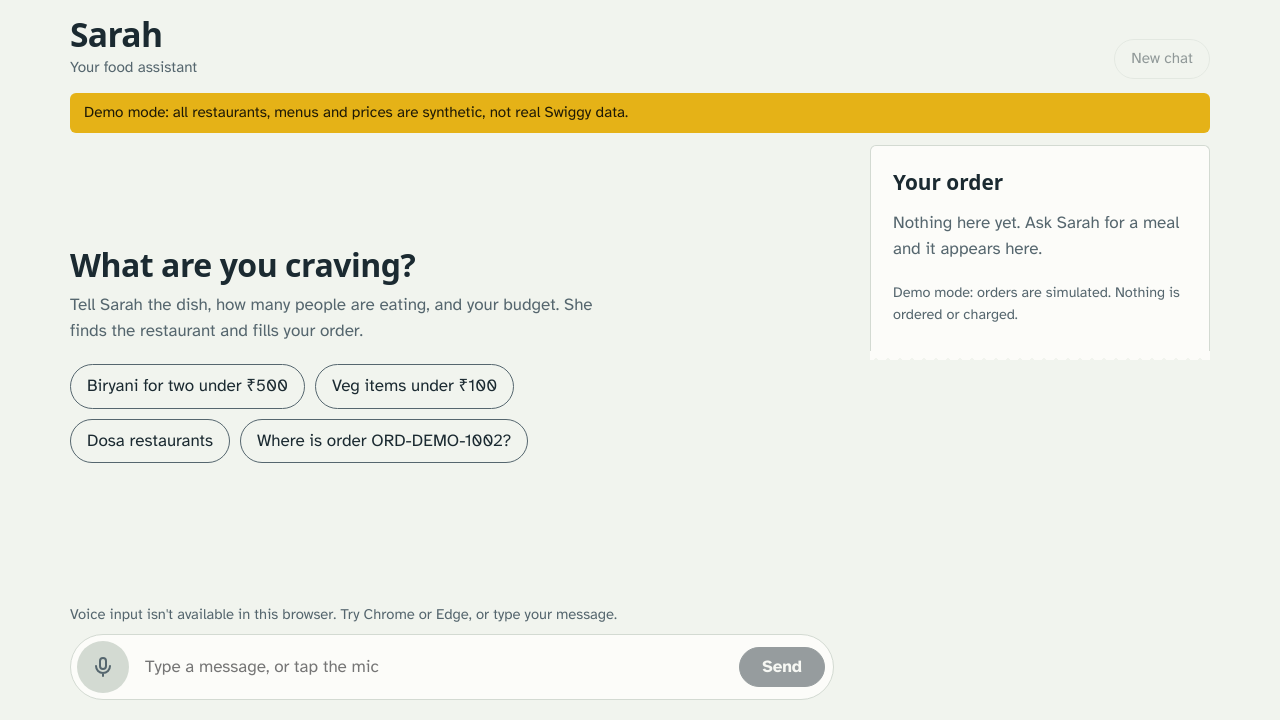
Scenario: ChatApp: text › a suggestion sends the message, shows Sarah's reply, her pick and the live order with its budget meter
Click the button "Biryani for two under ₹500".
click(188, 386)  # box [70,364,305,409]
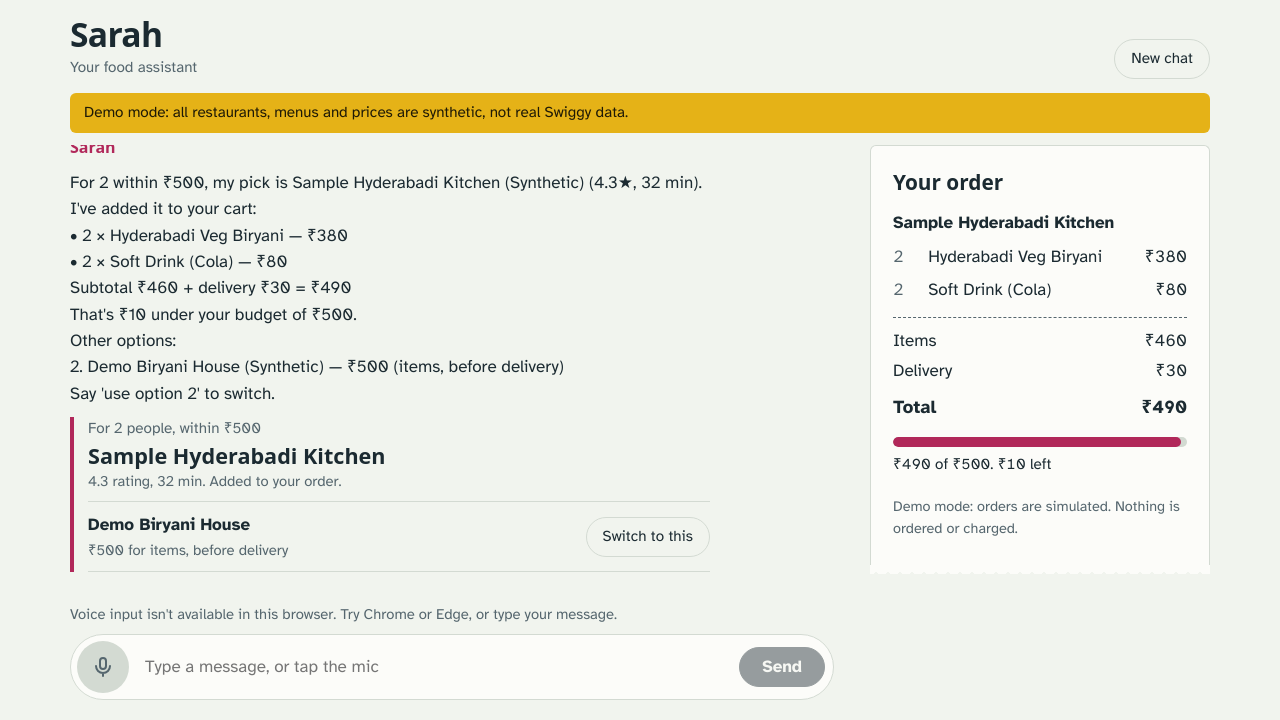
Expected: the text "my pick is Sample Hyderabadi Kitchen" is shown, [70,172,702,404]
Expected: the text "For 2 people, within ₹500" is shown, [88,419,261,437]
Expected: the 1st text "Sample Hyderabadi Kitchen" is shown, [893,212,1114,233]
